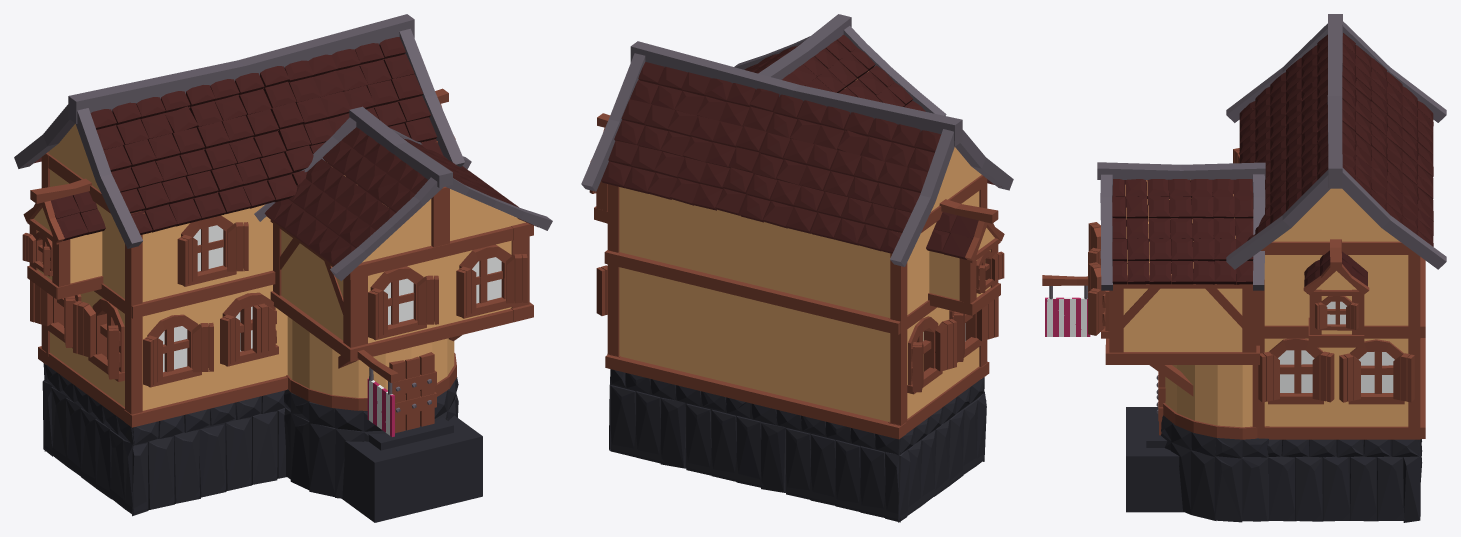
The model's file is Store.fbx.
3 renders of one model, left to right at view 1: azimuth 30°, elevation 25°; view 2: azimuth 150°, elevation 25°; view 3: azimuth 270°, elevation 25°, orthographic. The views are drawn at different scales.
Visible parts, largest first — view 1: Store; view 2: Store; view 3: Store.
Boxes of the visible parts, left/top/right/bottom form: Store: left=14, top=14, right=552, bottom=522; Store: left=581, top=14, right=1013, bottom=522; Store: left=1042, top=14, right=1446, bottom=522.
Size of the model in its own units: 493 by 542 by 490.
